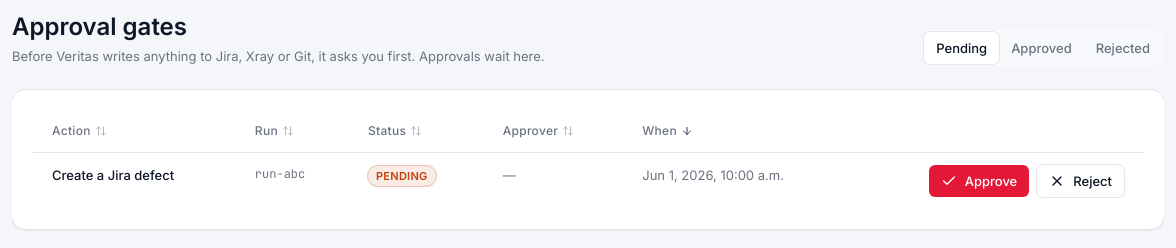
Test: Approval gates › switches the status filter and re-queries (APPROVED rows expose no decide buttons)
This screenshot has width=1176, height=248.
Expected: the text "Create a Jira defect" is shown, [32,152,235,209]
Click the button "Approved": (1042, 48) [999,32,1084,64]
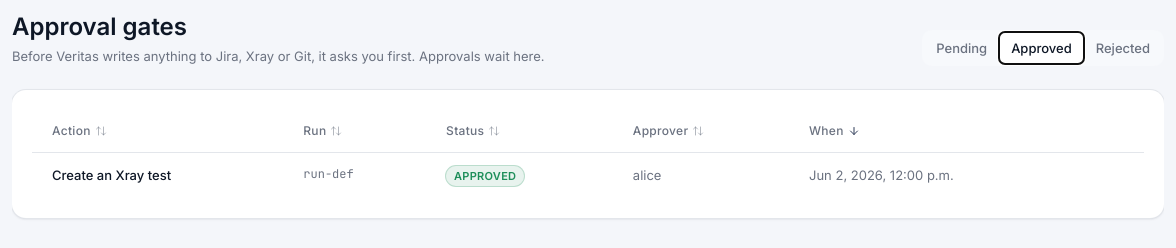
Now the text "Create an Xray test" is shown, box [32,152,283,198]
Now the text "alice" is shown, box [613,152,789,198]
Now the text "Create a Jira defect" is gone
